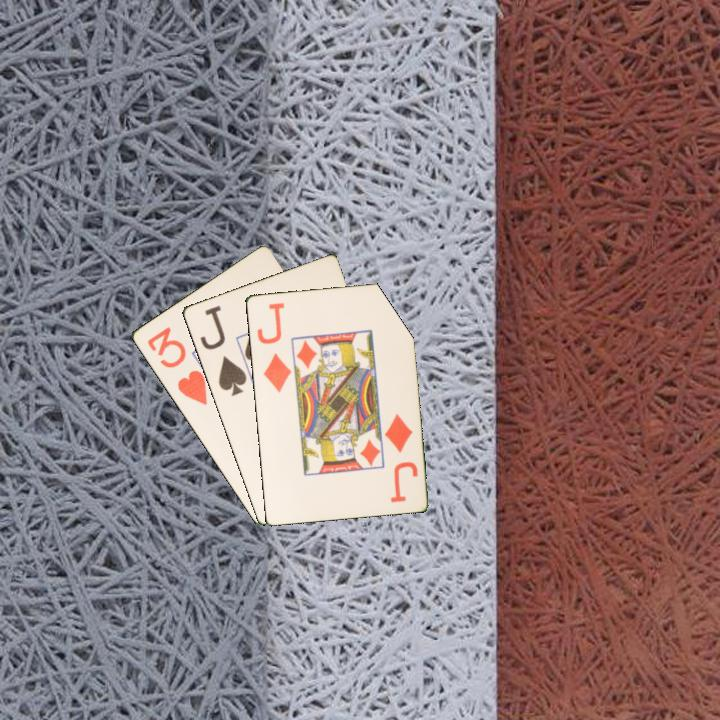3h: (143, 323, 210, 408)
Jd: (253, 299, 294, 395), (381, 410, 420, 505)
Js: (196, 302, 249, 399)
